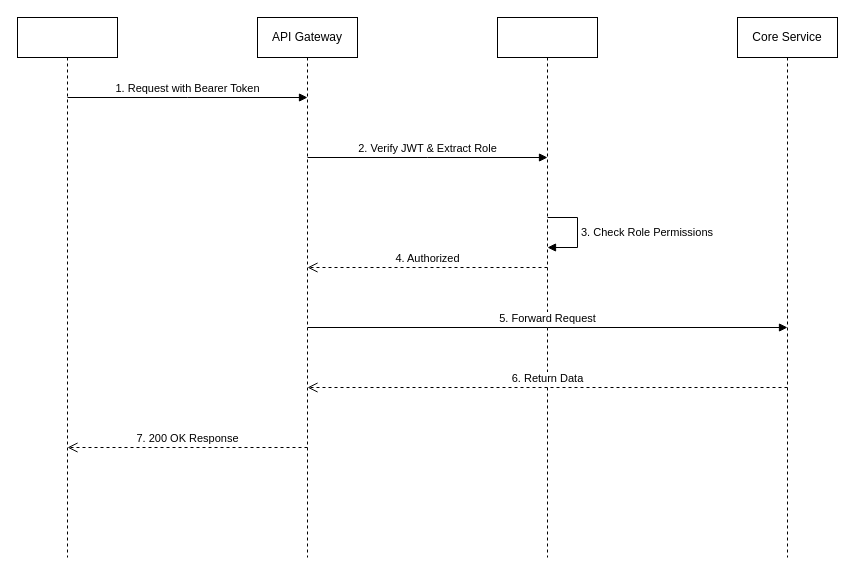
This 855x575 diagram has some shape labels left out. The box of each missing label's shape, as (x1, y1, x2, y2) in pixels:
RBAC Middleware: (496, 16, 598, 558)
React Client: (16, 16, 118, 558)
